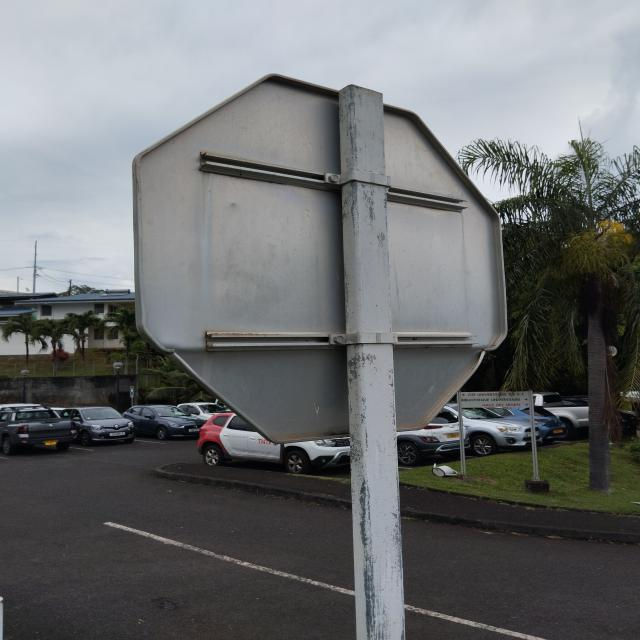Panneau: (134, 71, 508, 446)
